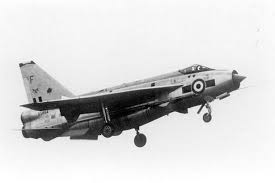fighter: (17, 55, 251, 149)
